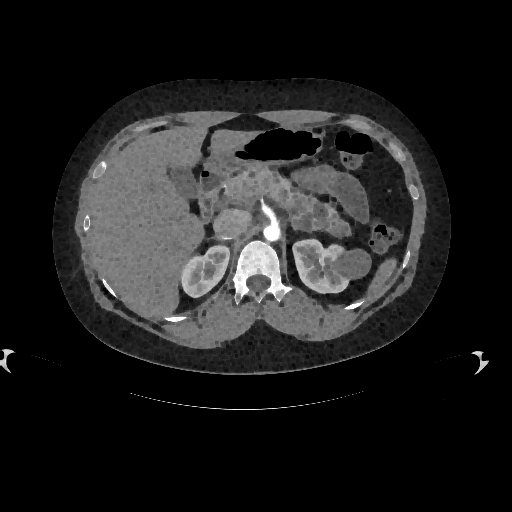Lesion: (332, 248, 372, 285)
